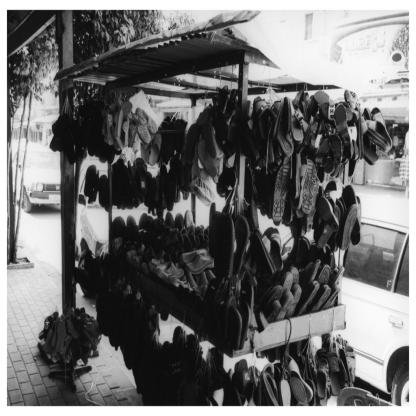Car: (282, 197, 416, 411), (14, 145, 62, 213)
